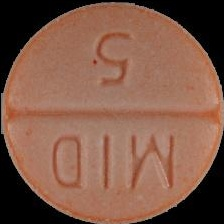60505-1321: (0, 0, 224, 224)
